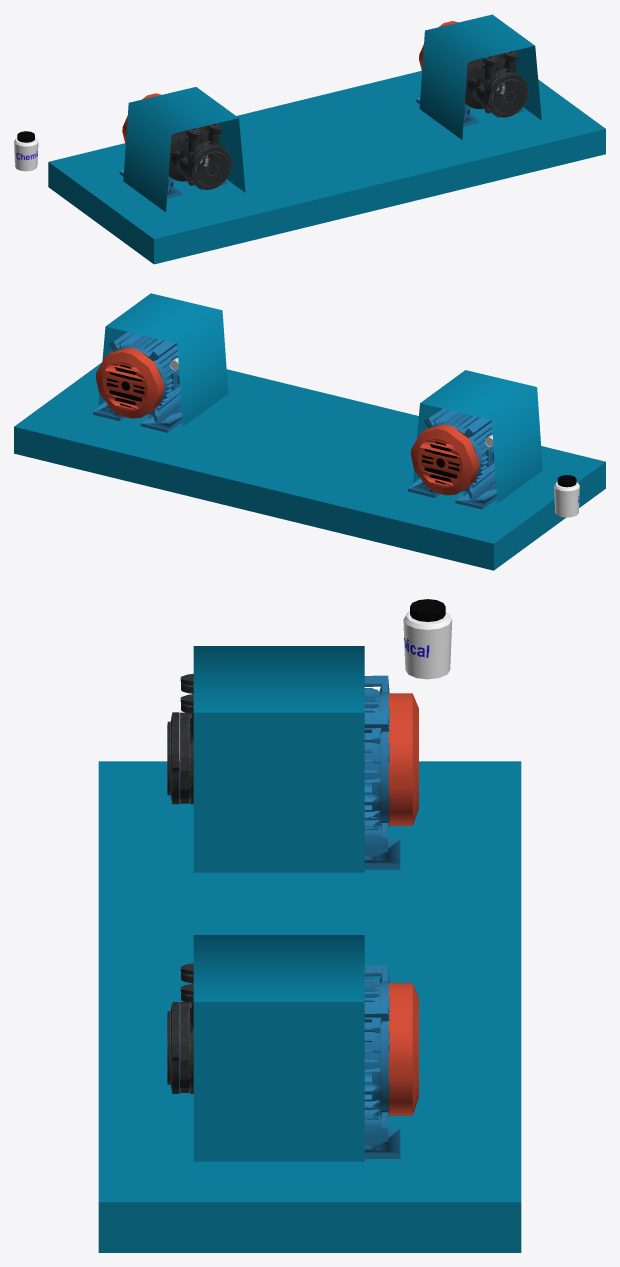
Rendered from aerators.fbx.
The picture shows the model from 3 angles, top to bottom: view 1: azimuth 30°, elevation 25°; view 2: azimuth 150°, elevation 25°; view 3: azimuth 270°, elevation 25°; orthographic projection. The views are drawn at different scales.
Visible parts, largest first — view 1: pCube54, pPlane1, pPlane2, motor, motor2, chemical1; view 2: pCube54, pPlane1, pPlane2, motor2, motor, chemical1; view 3: pCube54, pPlane2, pPlane1, motor, motor2, chemical1.
Boxes of the visible parts, x1,y1,x2,y2 form: pCube54: (48,71,605,264); pPlane1: (115,87,250,214); pPlane2: (411,14,547,142); motor: (119,93,231,198); motor2: (416,21,528,126); chemical1: (14,131,38,171); pCube54: (14,362,605,570); pPlane1: (407,370,551,505); pPlane2: (93,293,236,428); motor2: (93,331,182,432); motor: (408,408,496,509); chemical1: (554,475,579,517); pCube54: (98,761,521,1252); pPlane2: (193,935,364,1167); pPlane1: (193,646,364,877); motor: (167,673,418,869); motor2: (167,963,418,1158); chemical1: (403,599,452,679).
Size of the model in its own units: 244 by 47.31 by 87.96.
Materials: 3 (2 with a texture image).
